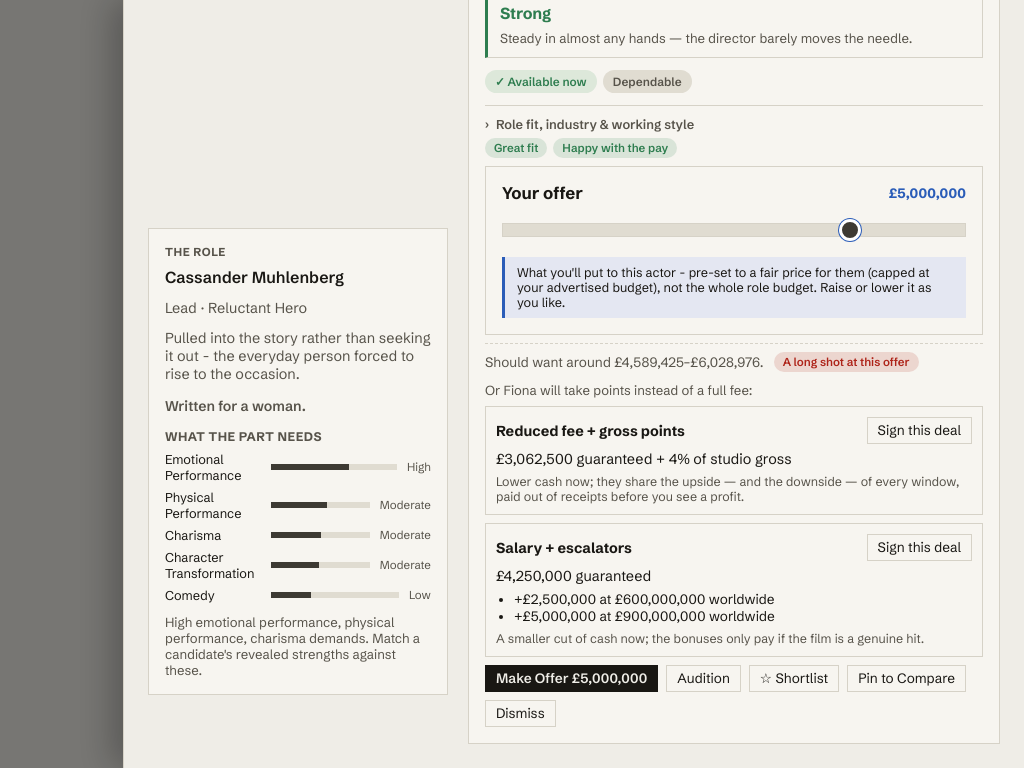
Test: CastingDrawer - dismissing an Open Casting applicant › offers a Dismiss button that clears the applicant off the list
(page scrolled)
// ...with a Dismiss action alongside Cast.
Click the button "Dismiss" at (520, 714), box [485,700,556,727]
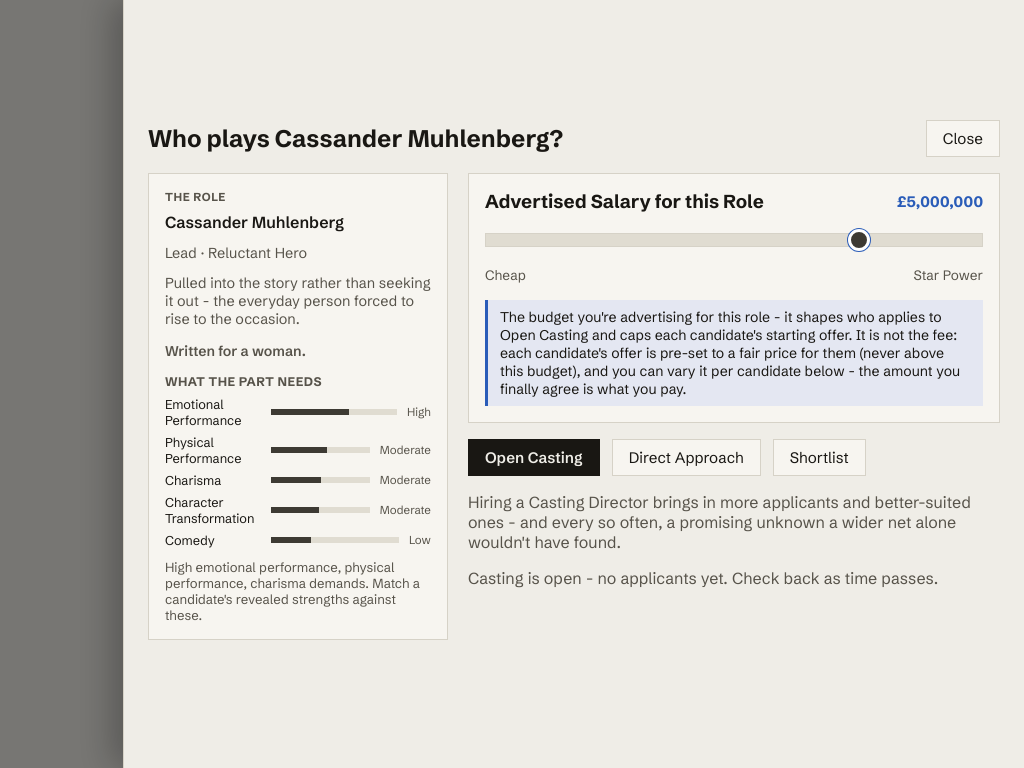
Expected: the text "no applicants yet" is shown, [468,568,938,588]
